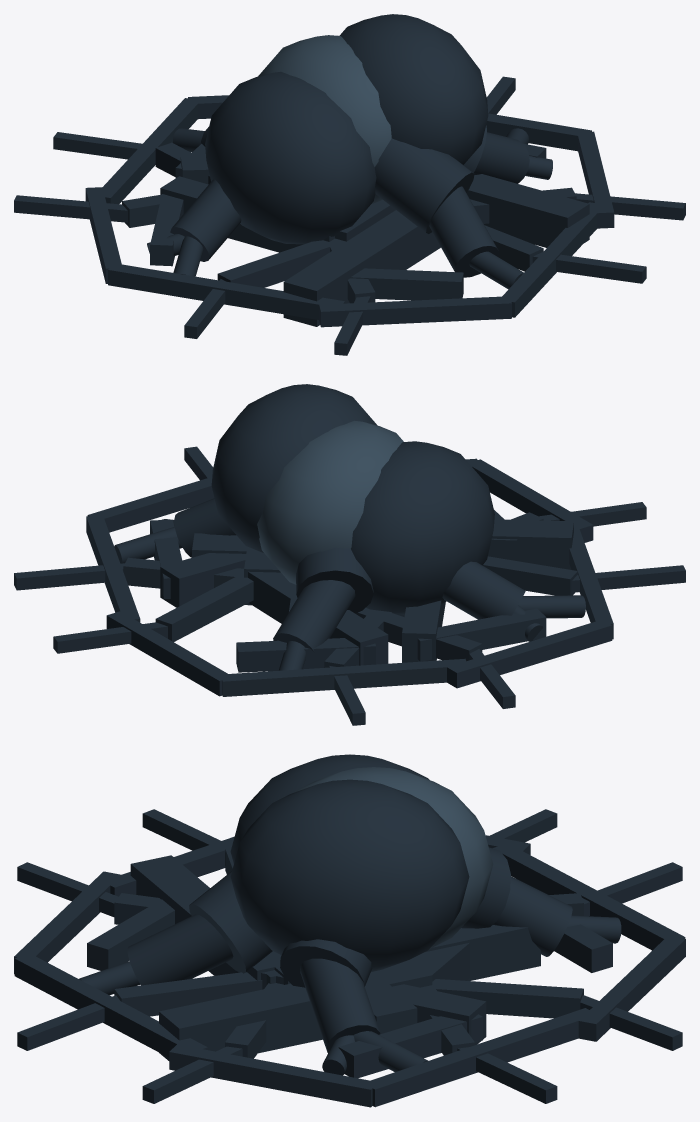
Rendered from CMU3DHiveXenoHiveWeedsSource.glb.
3 renders of one model, top to bottom at view 1: azimuth 30°, elevation 25°; view 2: azimuth 150°, elevation 25°; view 3: azimuth 270°, elevation 25°, orthographic. The views are drawn at different scales.
Parts seen in each view (by area): view 1: overlapping root node (×3), interwoven root loop (×8), connected ground rhizome (×7), sinuous anchoring root (×7), forked ground filament (×12), forked root tip; view 2: overlapping root node (×3), interwoven root loop (×7), connected ground rhizome (×10), forked ground filament (×12), sinuous anchoring root (×7); view 3: overlapping root node (×3), connected ground rhizome (×9), interwoven root loop (×7), forked ground filament (×13), sinuous anchoring root (×9), forked root tip.
Boxes of the visible parts, box(x1,y1,x2,y2) form: overlapping root node (×3): box(205, 14, 488, 244); interwoven root loop (×8): box(85, 95, 614, 327); connected ground rhizome (×7): box(150, 155, 589, 326); sinuous anchoring root (×7): box(170, 128, 529, 289); forked ground filament (×12): box(14, 76, 685, 355); forked root tip: box(525, 155, 552, 179); overlapping root node (×3): box(211, 384, 494, 615); interwoven root loop (×7): box(86, 459, 613, 696); connected ground rhizome (×10): box(150, 519, 573, 672); forked ground filament (×12): box(14, 446, 685, 725); sinuous anchoring root (×7): box(114, 498, 585, 670); overlapping root node (×3): box(230, 754, 493, 971); connected ground rhizome (×9): box(87, 855, 612, 1078); interwoven root loop (×7): box(14, 836, 685, 1107); forked ground filament (×13): box(17, 809, 682, 1103); sinuous anchoring root (×9): box(79, 847, 621, 1071); forked root tip: box(322, 1035, 354, 1075).
Bounding box in the file's own units: 0.619 × 0.221 × 0.619.
